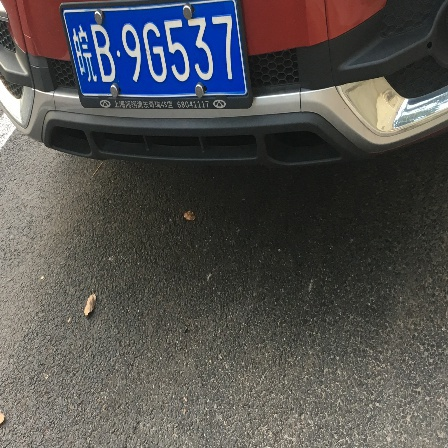plate: (60, 5, 253, 103)
